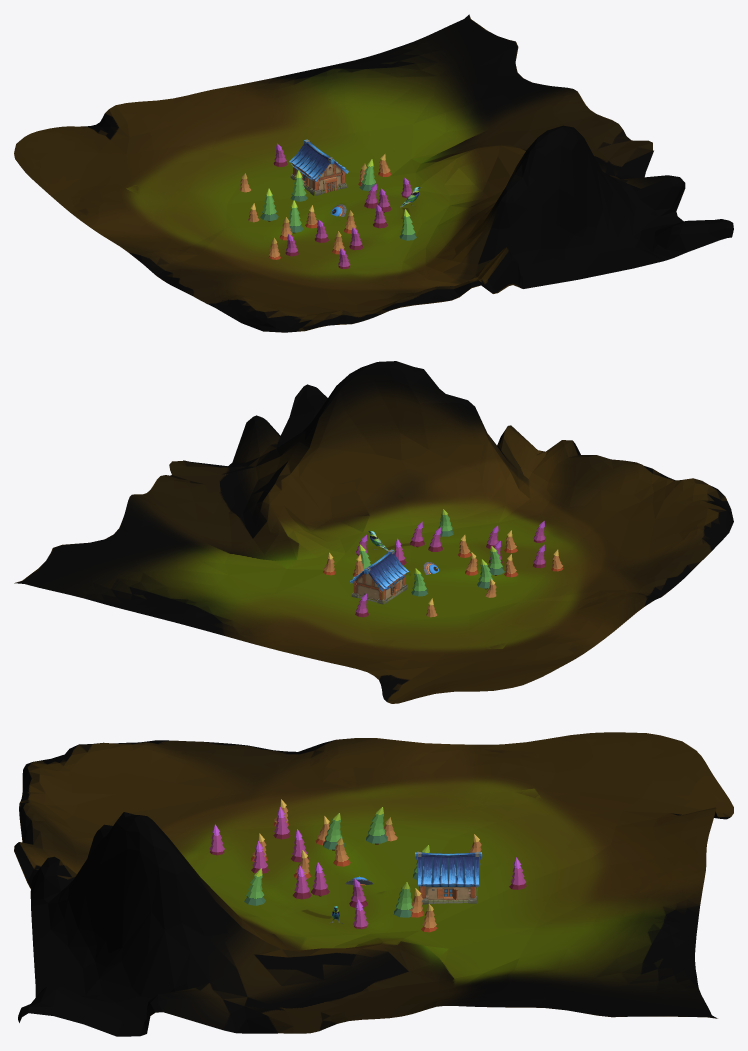
The model's file is World.gltf.
3 views of the same model, one above another, from view 1: azimuth 30°, elevation 25°; view 2: azimuth 150°, elevation 25°; view 3: azimuth 270°, elevation 25° (orthographic). The views are drawn at different scales.
Visible parts, largest first — view 1: Grid, Object_5; view 2: Grid, Object_5; view 3: Grid, Object_5, Verde_0.001.
Part boxes in pixels (x1,y1,x2,y2): Grid: [14, 14, 733, 332]; Object_5: [289, 139, 348, 195]; Grid: [14, 361, 733, 703]; Object_5: [350, 549, 408, 604]; Grid: [14, 732, 733, 1036]; Object_5: [415, 851, 482, 904]; Verde_0.001: [366, 807, 387, 844].
Size of the model in its own units: 110 by 25.88 by 110.
7 materials, 7 textured.
